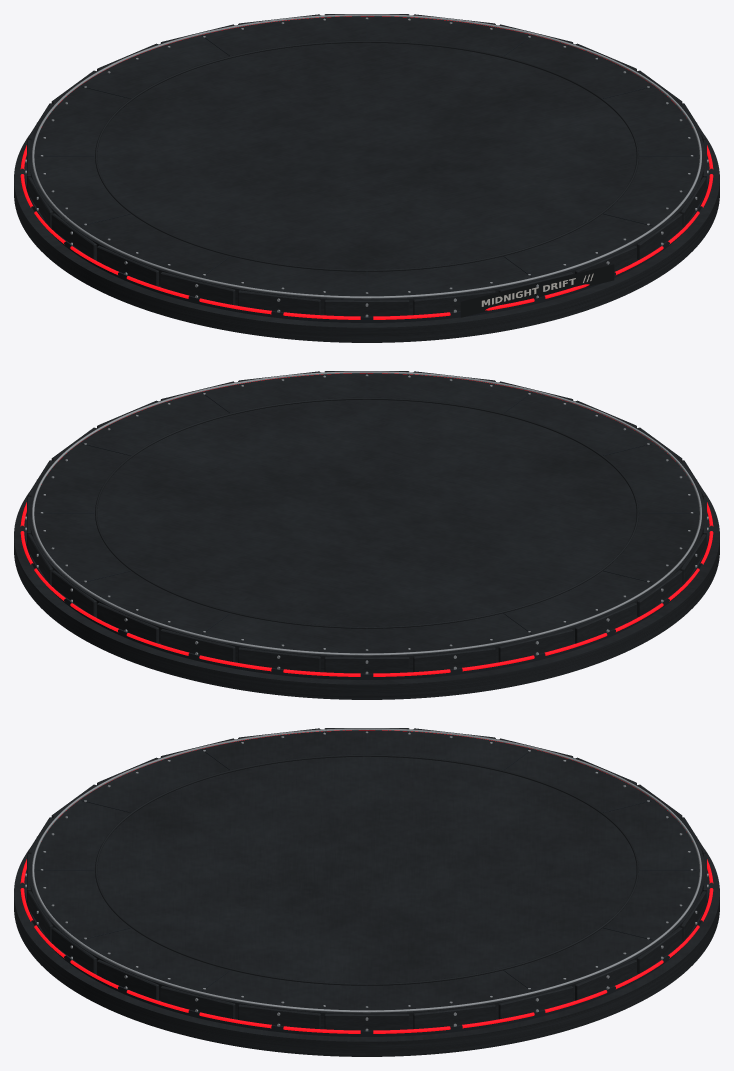
File: Neon_Turntable.glb
3 renders of one model, top to bottom at view 1: azimuth 30°, elevation 25°; view 2: azimuth 150°, elevation 25°; view 3: azimuth 270°, elevation 25°, orthographic.
Parts seen in each view (by area): view 1: Turntable_ROTATE/Turntable_rotating_deck_00334, Platform_Static/Turntable_static_plinth_00332, Turntable_ROTATE/Deck_outer_alloy_trim_00335, Turntable_ROTATE/Inner_track_00336, Platform_Static/Turntable_static_shadow_gap_00333, Platform_Static/Platform_Midnight_nameplate_01735, Turntable_ROTATE/Turntable_skirt_segment_00393, Turntable_ROTATE/Turntable_skirt_segment_00390, Turntable_ROTATE/Turntable_skirt_segment_00386, Turntable_ROTATE/Turntable_skirt_segment_00383, Turntable_ROTATE/Turntable_skirt_segment_00397, Turntable_ROTATE/Turntable_skirt_segment_00379 (+2 smaller); view 2: Turntable_ROTATE/Turntable_rotating_deck_00334, Platform_Static/Turntable_static_plinth_00332, Turntable_ROTATE/Deck_outer_alloy_trim_00335, Turntable_ROTATE/Inner_track_00336, Platform_Static/Turntable_static_shadow_gap_00333, Turntable_ROTATE/Turntable_skirt_segment_00365, Turntable_ROTATE/Turntable_skirt_segment_00362, Turntable_ROTATE/Turntable_skirt_segment_00369, Turntable_ROTATE/Turntable_skirt_segment_00358, Turntable_ROTATE/Turntable_skirt_segment_00372, Turntable_ROTATE/Turntable_skirt_segment_00355, Turntable_ROTATE/Turntable_skirt_segment_00376 (+2 smaller); view 3: Turntable_ROTATE/Turntable_rotating_deck_00334, Platform_Static/Turntable_static_plinth_00332, Turntable_ROTATE/Deck_outer_alloy_trim_00335, Turntable_ROTATE/Inner_track_00336, Platform_Static/Turntable_static_shadow_gap_00333, Turntable_ROTATE/Turntable_skirt_segment_00337, Turntable_ROTATE/Turntable_skirt_segment_00341, Turntable_ROTATE/Turntable_skirt_segment_00418, Turntable_ROTATE/Turntable_skirt_segment_00344, Turntable_ROTATE/Turntable_skirt_segment_00414, Turntable_ROTATE/Turntable_skirt_segment_00348, Turntable_ROTATE/Turntable_skirt_segment_00411 (+2 smaller).
Part boxes in pixels (x1,y1,x2,y2): Turntable_ROTATE/Turntable_rotating_deck_00334: [29, 14, 704, 314]; Platform_Static/Turntable_static_plinth_00332: [14, 136, 719, 342]; Turntable_ROTATE/Deck_outer_alloy_trim_00335: [32, 14, 701, 298]; Turntable_ROTATE/Inner_track_00336: [95, 40, 638, 271]; Platform_Static/Turntable_static_shadow_gap_00333: [25, 159, 708, 322]; Platform_Static/Platform_Midnight_nameplate_01735: [460, 264, 614, 317]; Turntable_ROTATE/Turntable_skirt_segment_00393: [324, 299, 409, 319]; Turntable_ROTATE/Turntable_skirt_segment_00390: [238, 290, 320, 318]; Turntable_ROTATE/Turntable_skirt_segment_00386: [160, 272, 235, 308]; Turntable_ROTATE/Turntable_skirt_segment_00383: [97, 245, 158, 286]; Turntable_ROTATE/Turntable_skirt_segment_00397: [413, 290, 495, 318]; Turntable_ROTATE/Turntable_skirt_segment_00379: [51, 213, 96, 259]; Turntable_ROTATE/Turntable_rotating_deck_00334: [29, 371, 704, 671]; Platform_Static/Turntable_static_plinth_00332: [14, 493, 719, 699]; Turntable_ROTATE/Deck_outer_alloy_trim_00335: [32, 371, 701, 655]; Turntable_ROTATE/Inner_track_00336: [95, 397, 638, 628]; Platform_Static/Turntable_static_shadow_gap_00333: [25, 516, 708, 679]; Turntable_ROTATE/Turntable_skirt_segment_00365: [324, 656, 409, 676]; Turntable_ROTATE/Turntable_skirt_segment_00362: [238, 647, 320, 675]; Turntable_ROTATE/Turntable_skirt_segment_00369: [413, 647, 495, 675]; Turntable_ROTATE/Turntable_skirt_segment_00358: [160, 629, 235, 665]; Turntable_ROTATE/Turntable_skirt_segment_00372: [498, 629, 573, 665]; Turntable_ROTATE/Turntable_skirt_segment_00355: [97, 602, 158, 643]; Turntable_ROTATE/Turntable_skirt_segment_00376: [575, 602, 636, 643]; Turntable_ROTATE/Turntable_rotating_deck_00334: [29, 728, 704, 1028]; Platform_Static/Turntable_static_plinth_00332: [14, 850, 719, 1056]; Turntable_ROTATE/Deck_outer_alloy_trim_00335: [32, 728, 701, 1012]; Turntable_ROTATE/Inner_track_00336: [95, 754, 638, 985]; Platform_Static/Turntable_static_shadow_gap_00333: [25, 873, 708, 1036]; Turntable_ROTATE/Turntable_skirt_segment_00337: [324, 1013, 409, 1033]; Turntable_ROTATE/Turntable_skirt_segment_00341: [413, 1004, 495, 1032]; Turntable_ROTATE/Turntable_skirt_segment_00418: [238, 1004, 320, 1032]; Turntable_ROTATE/Turntable_skirt_segment_00344: [498, 986, 573, 1022]; Turntable_ROTATE/Turntable_skirt_segment_00414: [160, 986, 235, 1022]; Turntable_ROTATE/Turntable_skirt_segment_00348: [575, 959, 636, 1000]; Turntable_ROTATE/Turntable_skirt_segment_00411: [97, 959, 158, 1000].
Size of the model in its own units: 7.56 by 0.4544 by 7.56.
5 materials, 3 textured.
